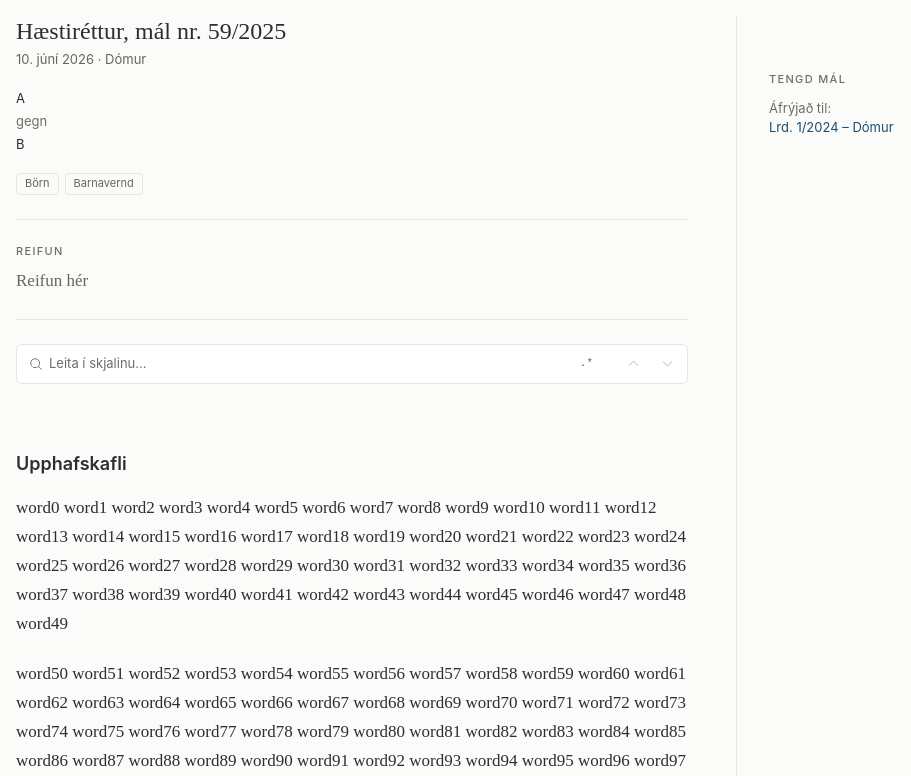
Test case: DocPanel search › jumps to and renders a match hidden inside a later, not-yet-visible lazy section
This screenshot has width=911, height=776.
Expected: the text "leitarordeitt" is not shown
Type "leitarordeitt" into the field labelled "Leita í skjalinu". click: (308, 364)
box: [49,354,568,373]
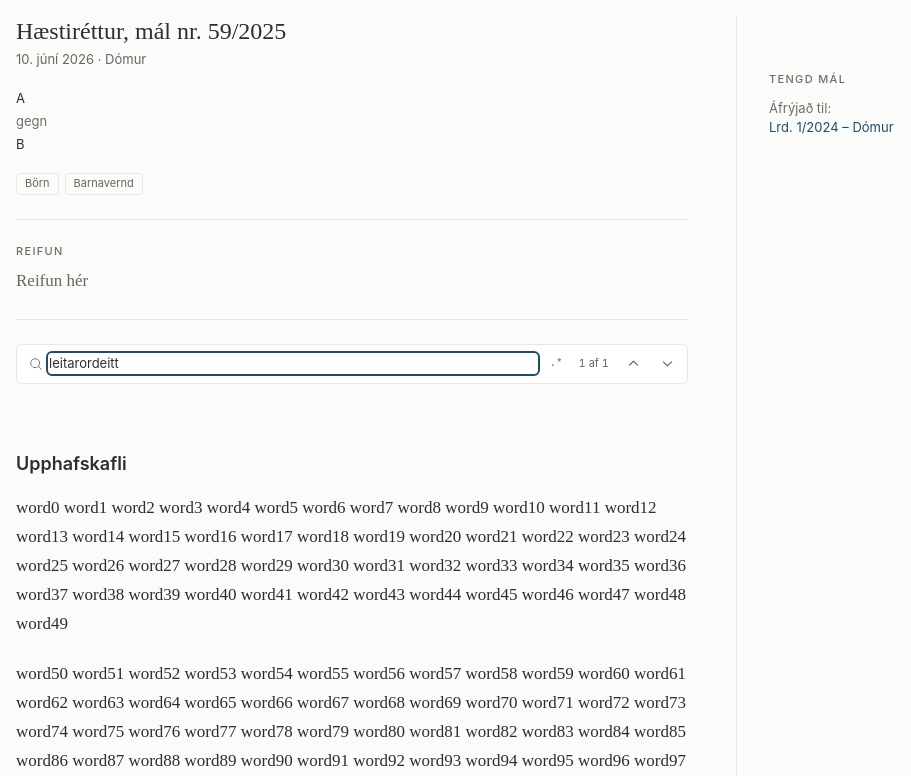
Expected: the text "1 af 1" is shown, [579,356,609,370]
